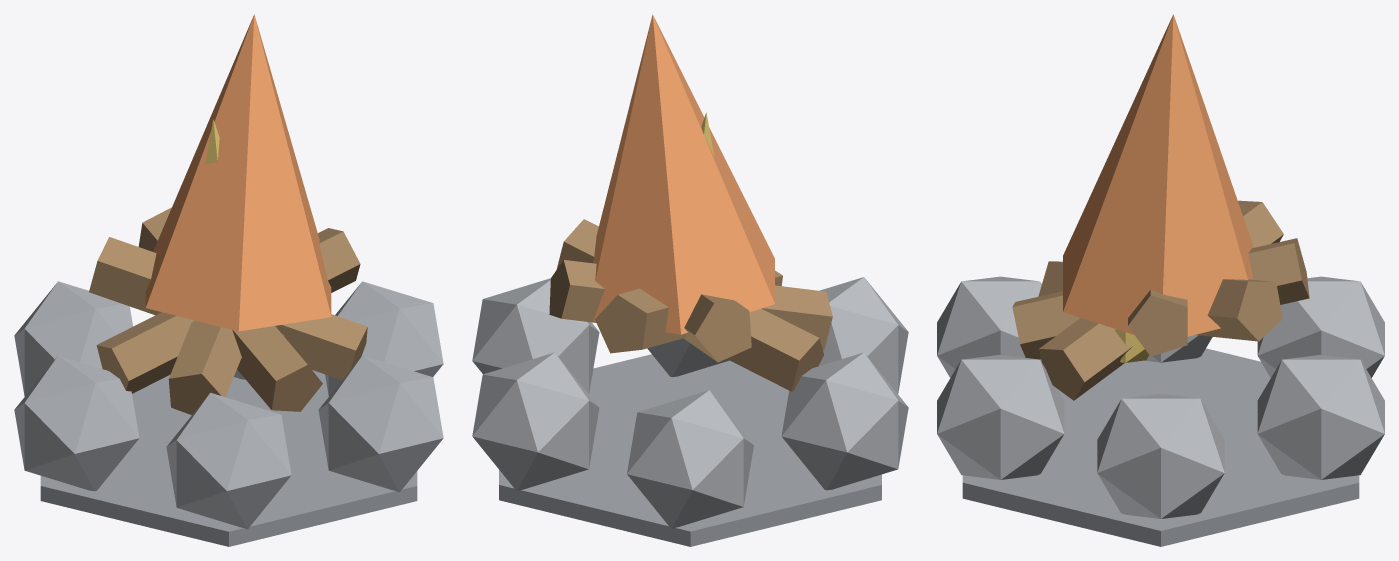
File: animprop_campfire_01.glb
3 views of the same model, side by side, from view 1: azimuth 30°, elevation 25°; view 2: azimuth 150°, elevation 25°; view 3: azimuth 270°, elevation 25° (orthographic). The views are drawn at different scales.
Visible parts, largest first — view 1: animprop; view 2: animprop; view 3: animprop.
Boxes of the visible parts, x1,y1,x2,y2 form: animprop: [14, 14, 443, 546]; animprop: [472, 14, 908, 546]; animprop: [937, 14, 1384, 546].
Size of the model in its own units: 1.13 by 1.13 by 1.02.
